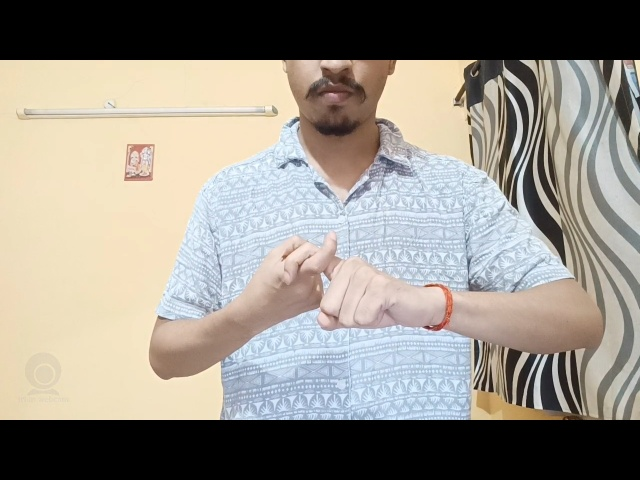Friend: (221, 226, 432, 361)
